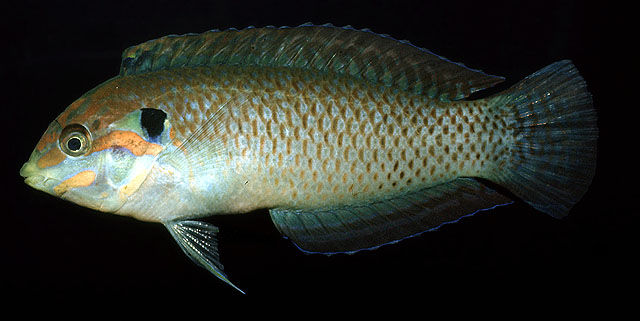fish: (19, 22, 598, 295)
